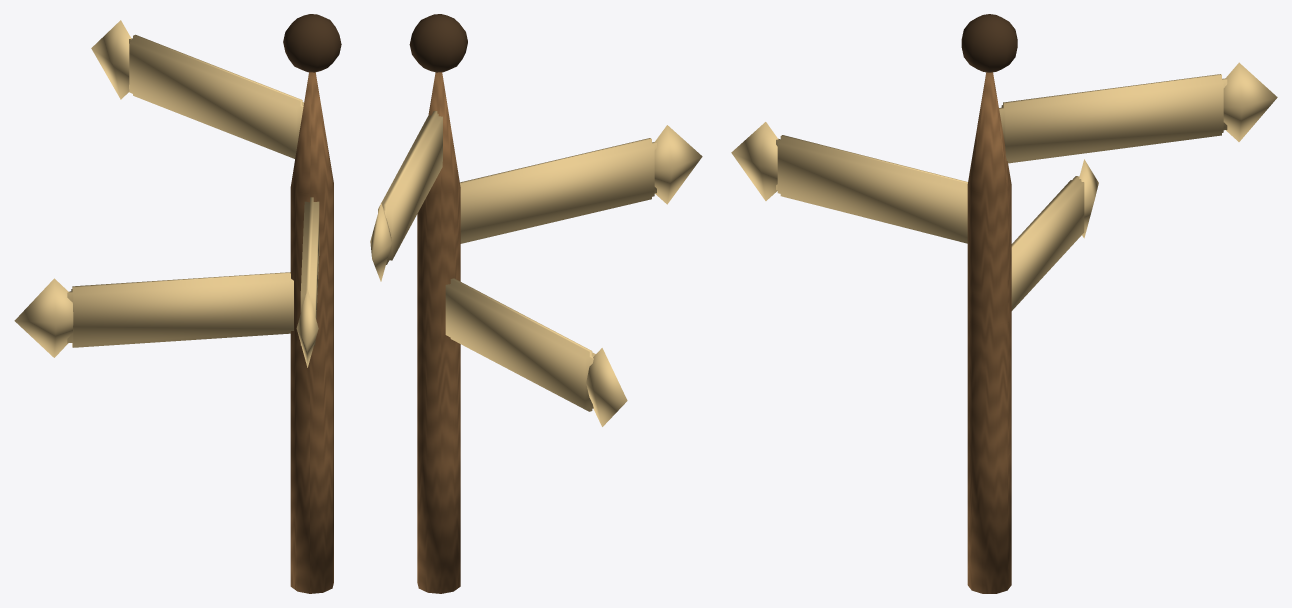
File: Signpost.fbx
3 views of the same model, side by side, from view 1: azimuth 30°, elevation 25°; view 2: azimuth 150°, elevation 25°; view 3: azimuth 270°, elevation 25° (orthographic).
Visible parts, largest first — view 1: Signpost; view 2: Signpost; view 3: Signpost.
Part boxes in pixels (bbox=[...]): Signpost: bbox=[14, 14, 341, 593]; Signpost: bbox=[370, 14, 702, 593]; Signpost: bbox=[731, 14, 1277, 593].
Size of the model in its own units: 169 by 341 by 297.
Materials: 1 (1 with a texture image).
